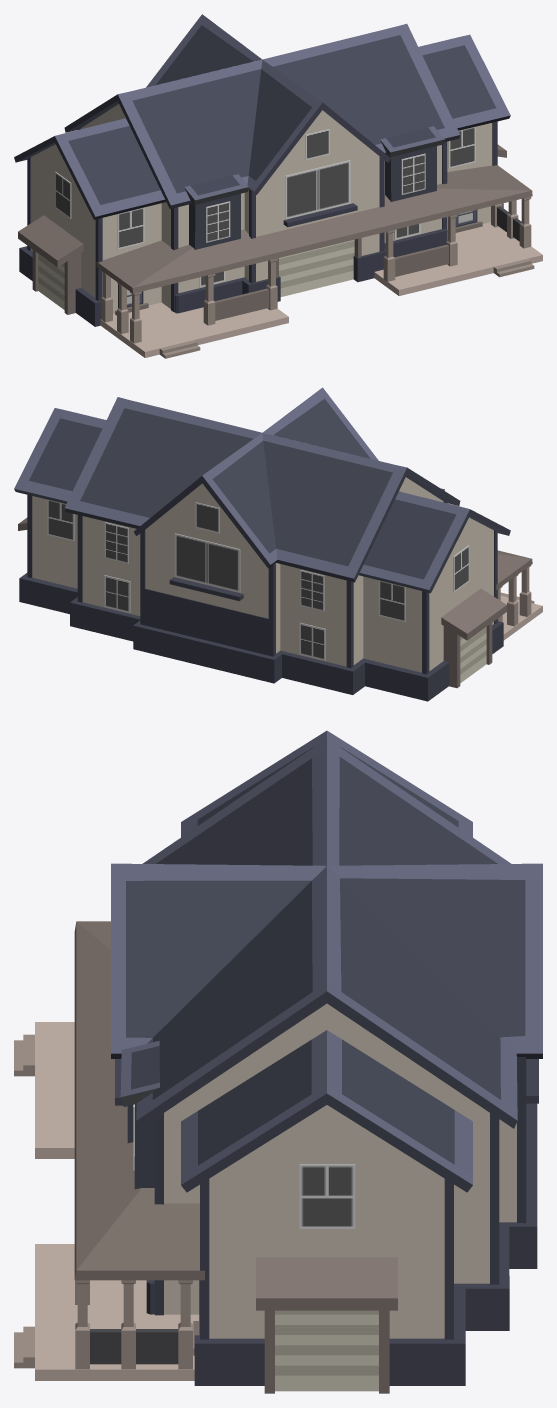
File: house12_color01.fbx
The picture shows the model from 3 angles, top to bottom: view 1: azimuth 30°, elevation 25°; view 2: azimuth 150°, elevation 25°; view 3: azimuth 270°, elevation 25°; orthographic projection. The views are drawn at different scales.
Parts seen in each view (by area): view 1: House12 V1; view 2: House12 V1; view 3: House12 V1.
Part boxes in pixels (bbox=[...]): House12 V1: bbox=[14, 14, 542, 358]; House12 V1: bbox=[14, 387, 542, 701]; House12 V1: bbox=[14, 730, 542, 1393].
Bounding box in the file's own units: 2315 × 946 × 1317.
